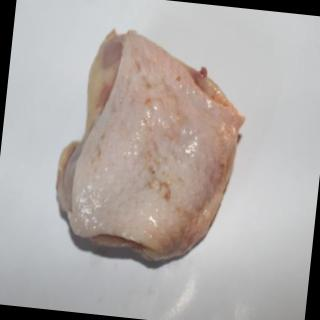Ayam: (50, 22, 250, 273)
